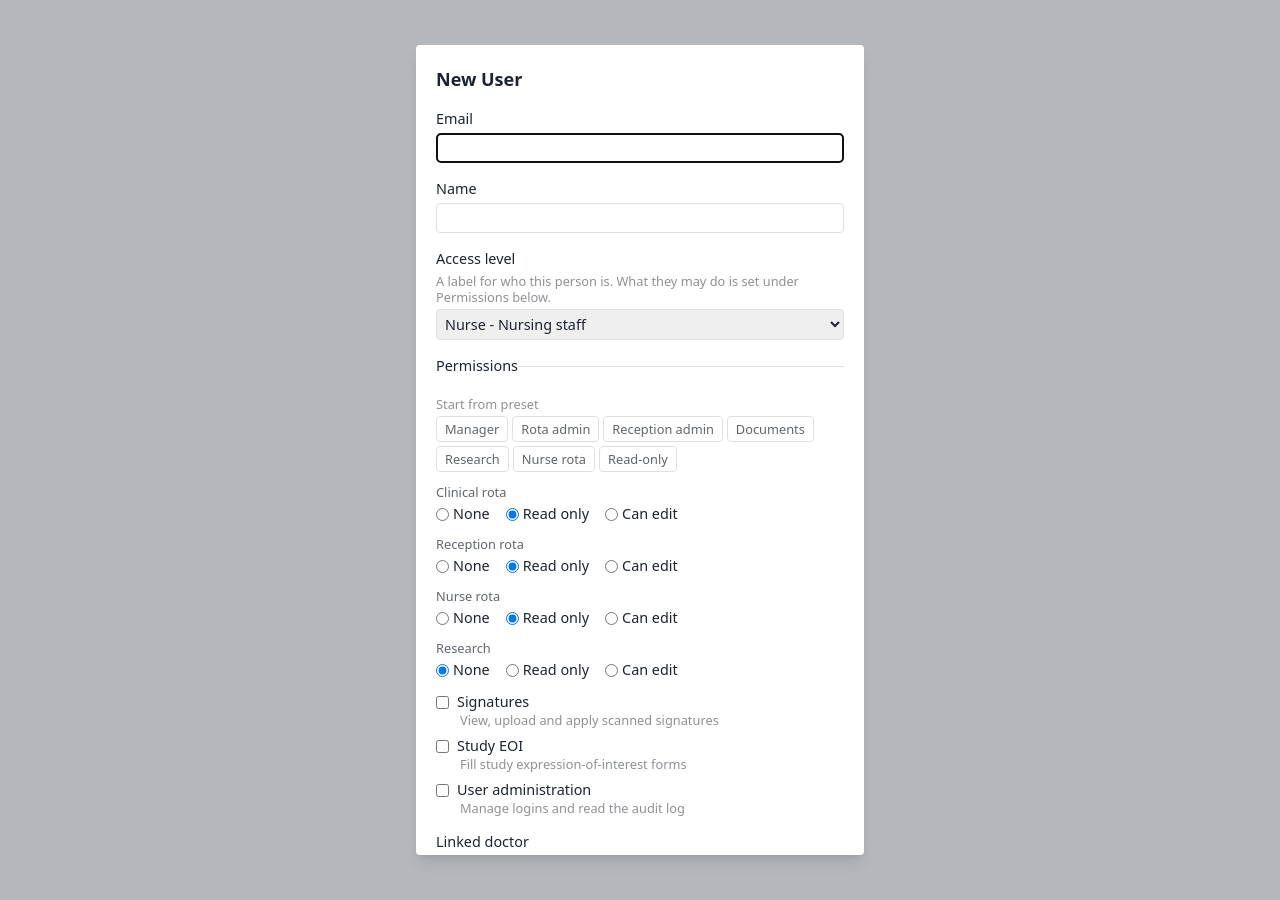
UserFormDialog - staff links › surfaces the server's 409 for an already-claimed staff row as a form banner
In the field labelled "Email": (640, 148) [436, 133, 844, 163], type "cara@example.com"
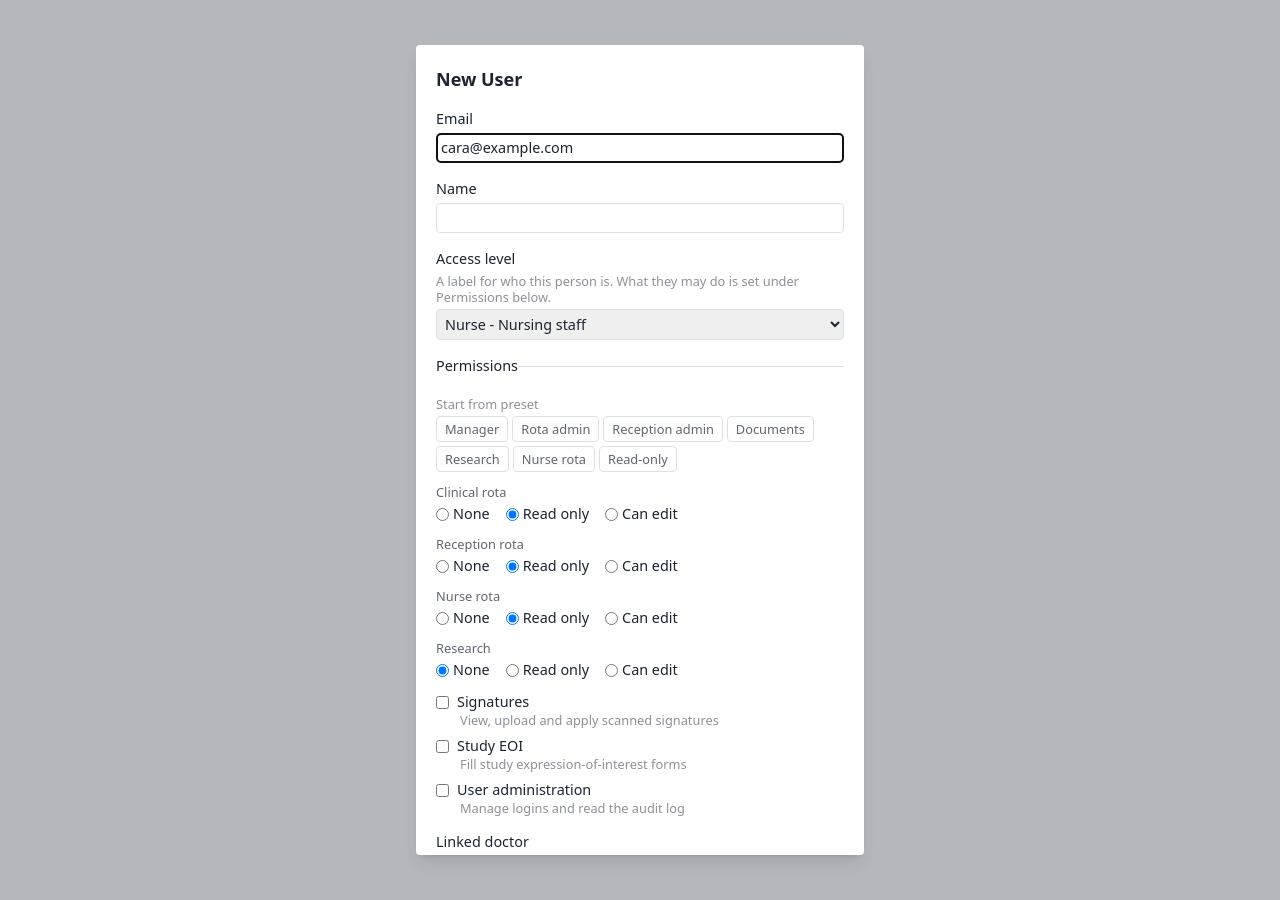
In the field labelled "Name": (640, 218) [436, 203, 844, 233], type "Cara"
(page scrolled)
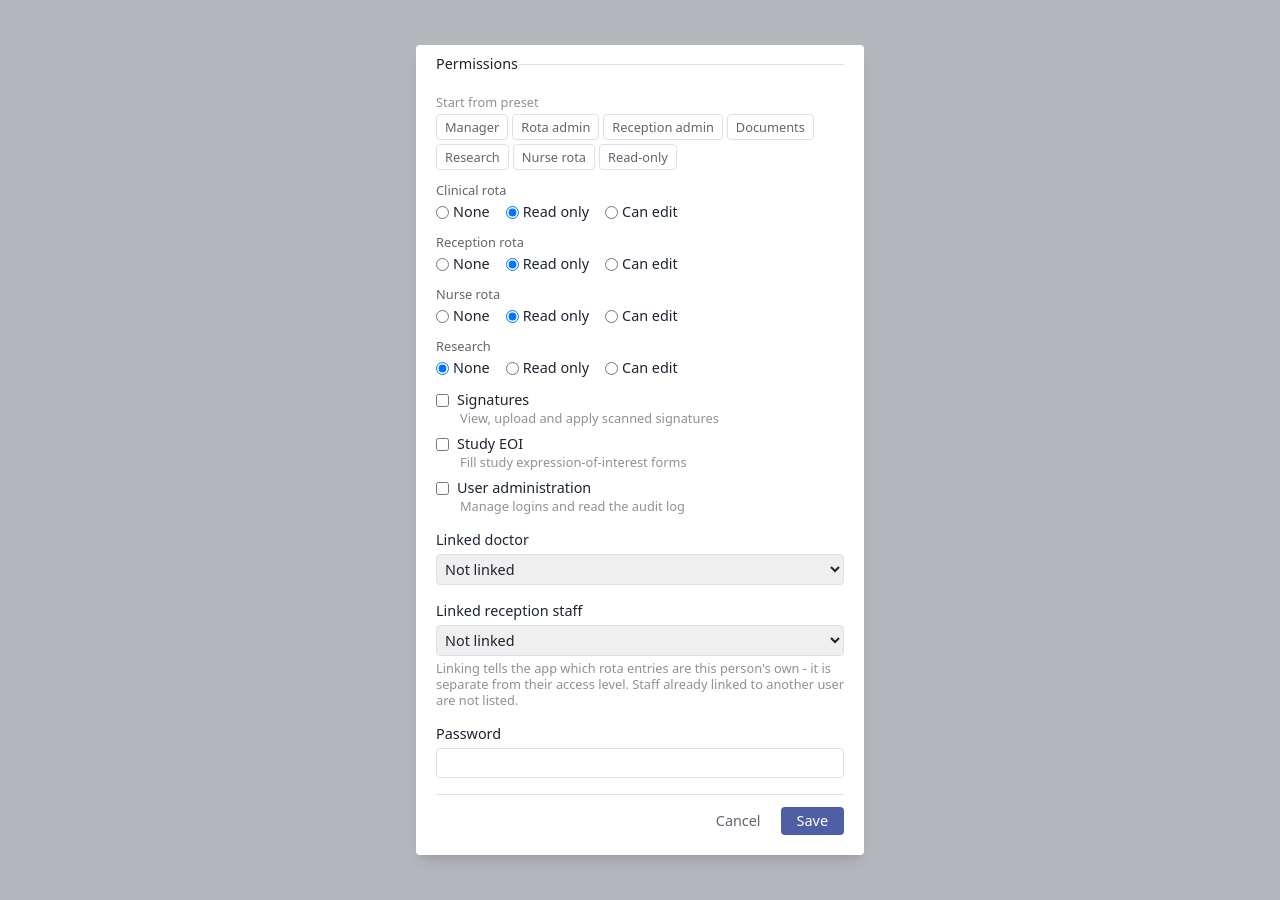
In the password field labelled "Password": (640, 763) [436, 748, 844, 778], type "password1"
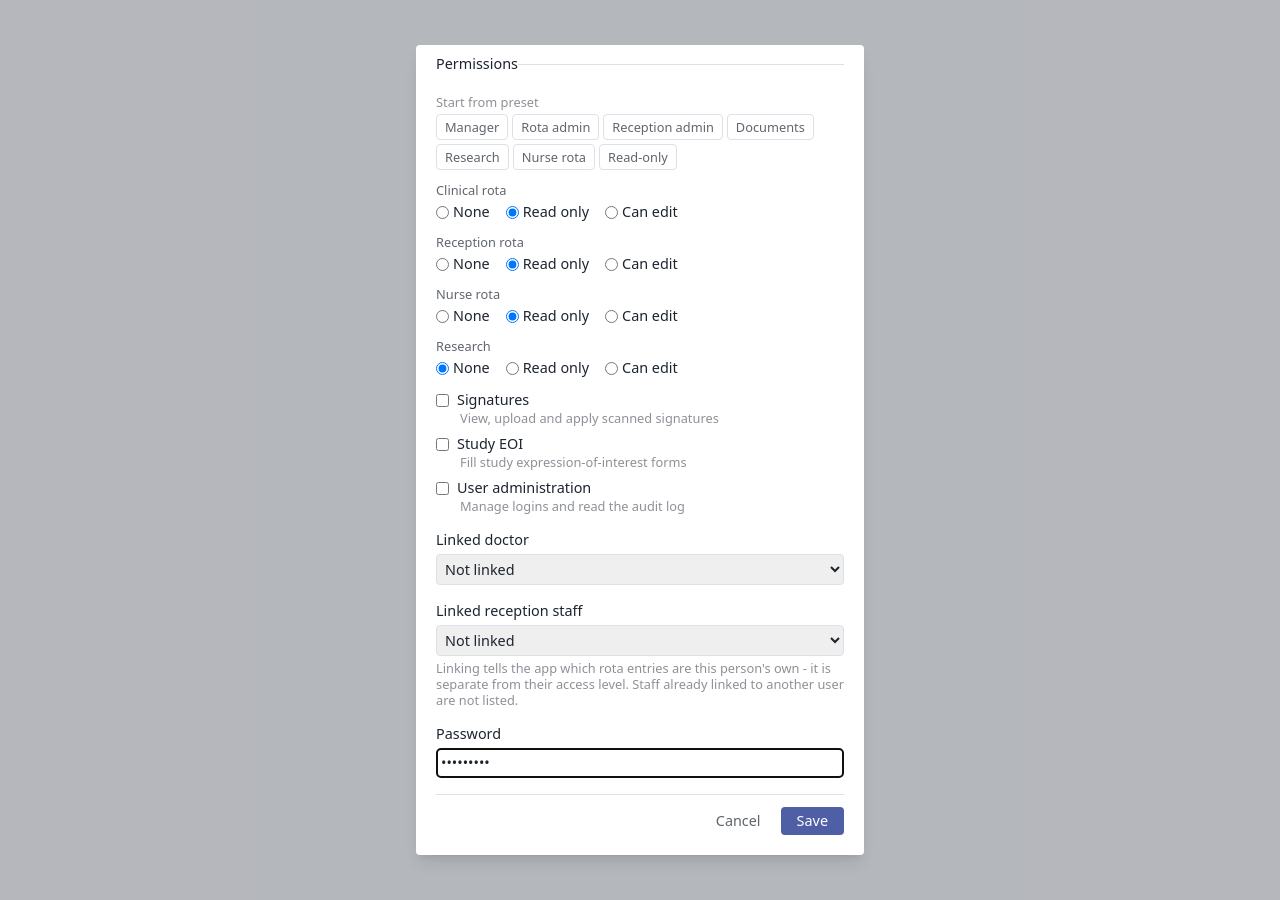
Select "AB" in the dropdown labelled "Linked doctor": (640, 570) [436, 554, 844, 585]
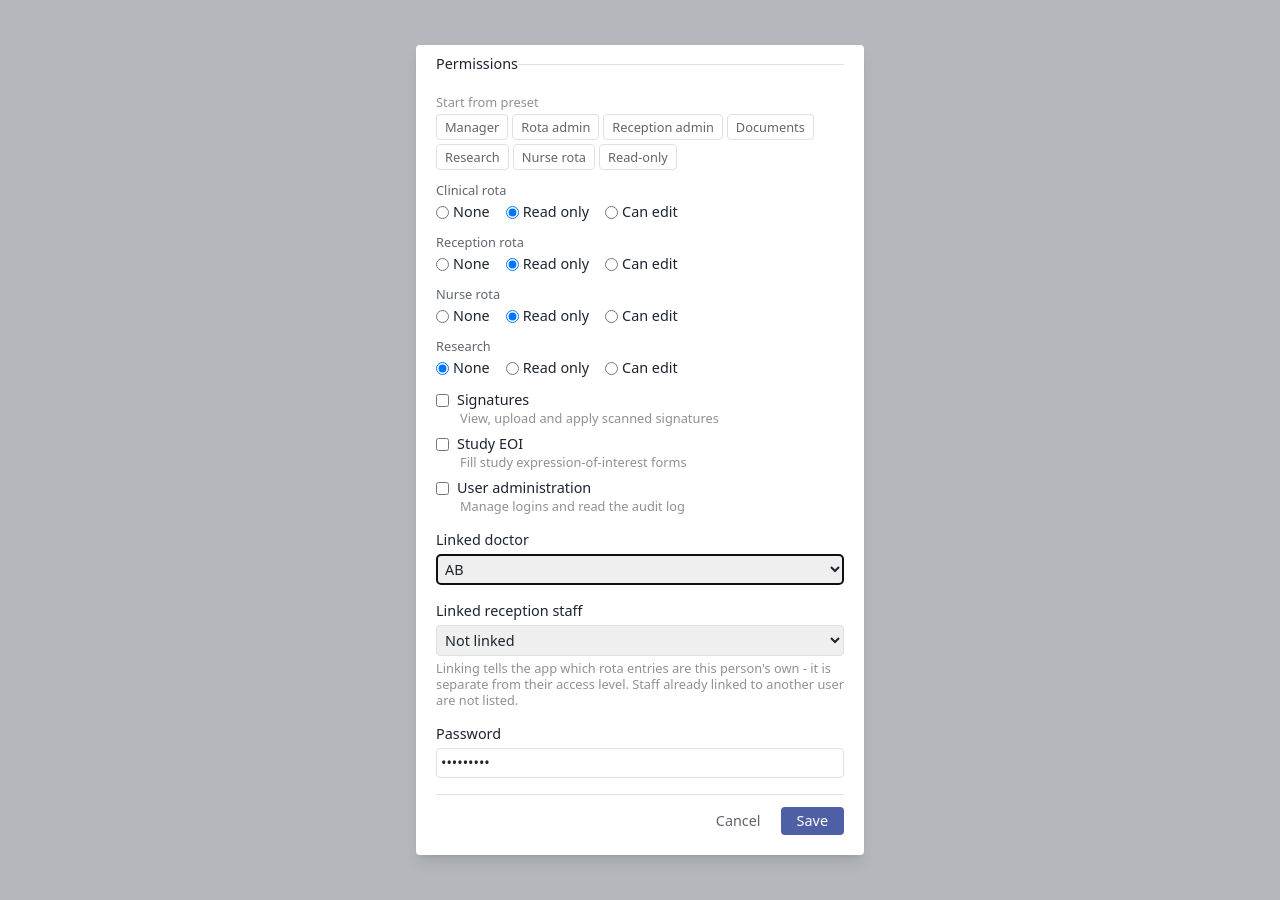
Click the button "Save": (812, 821) [781, 807, 844, 835]
(page scrolled)
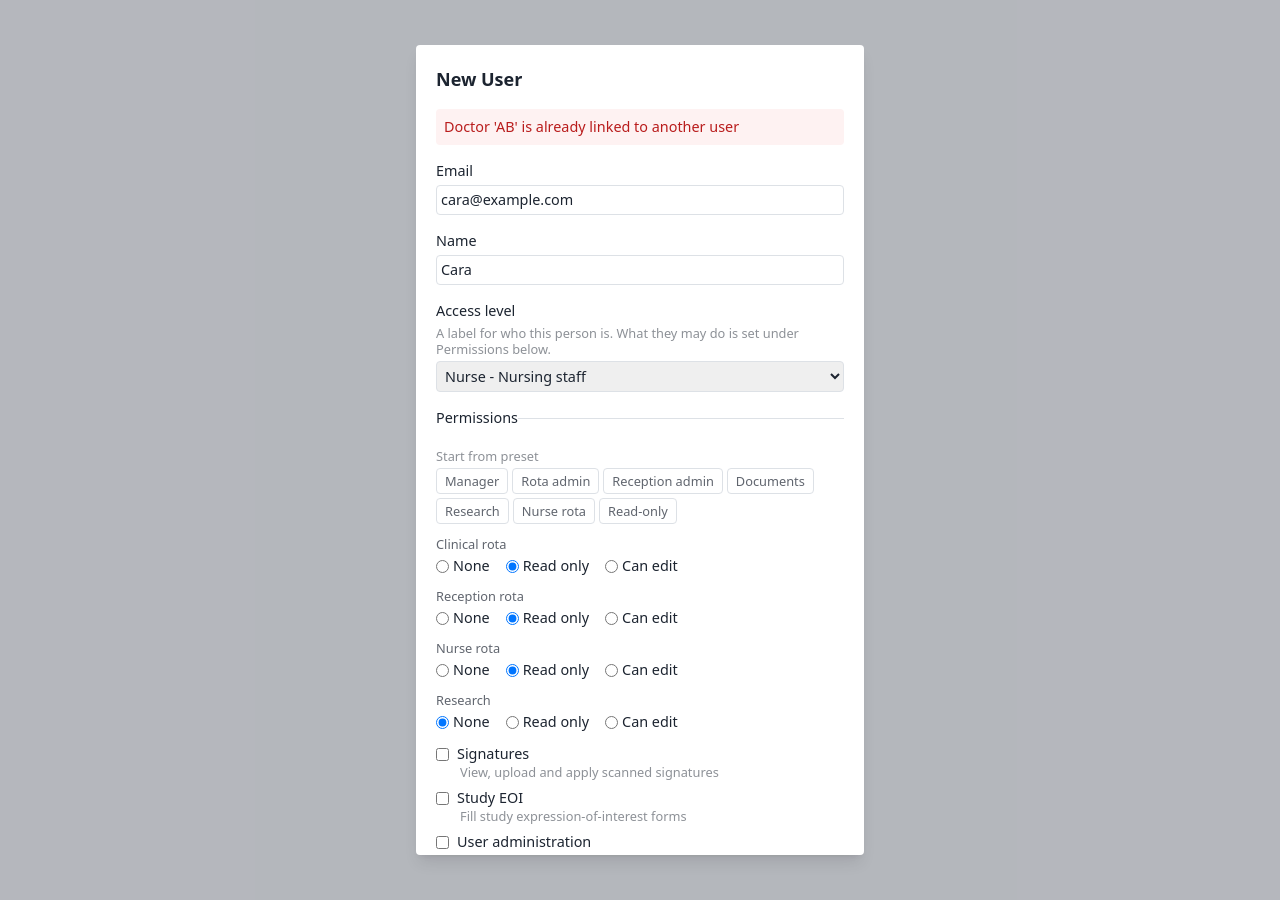
Expected: the text "Doctor 'AB' is already linked to another user" is shown, [436, 109, 844, 145]
